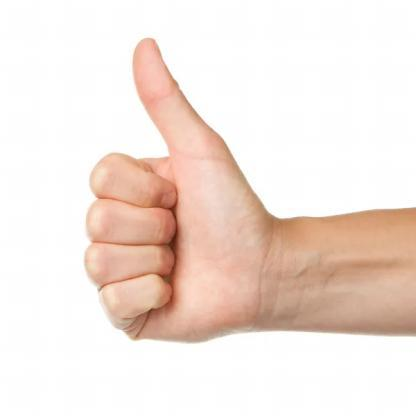thumb_up: (80, 32, 268, 347)
